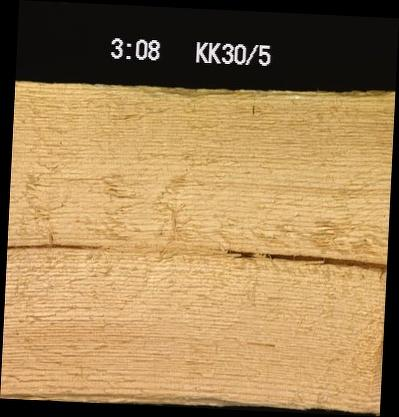wave: (40, 386, 245, 404)
